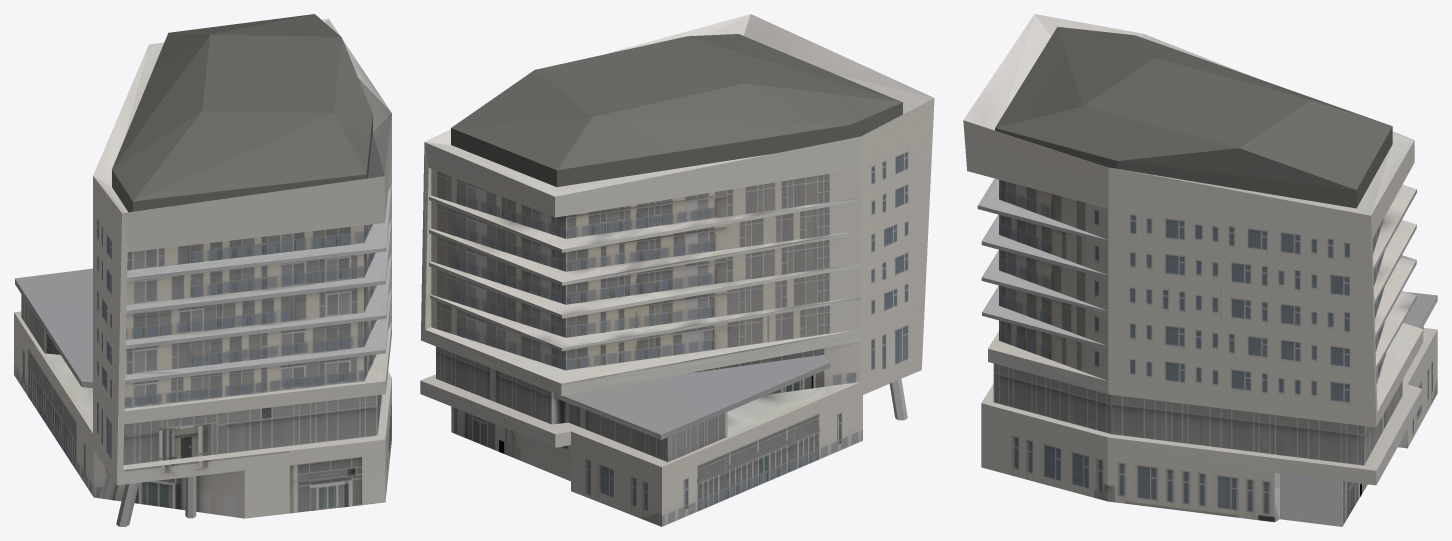
3 renders of one model, left to right at view 1: azimuth 30°, elevation 25°; view 2: azimuth 150°, elevation 25°; view 3: azimuth 270°, elevation 25°, orthographic. The views are drawn at different scales.
Visible parts, largest first — view 1: 209-A.001; view 2: 209-A.001; view 3: 209-A.001.
Part boxes in pixels (x1,y1,x2,y2): 209-A.001: [14, 14, 391, 526]; 209-A.001: [420, 14, 934, 526]; 209-A.001: [963, 14, 1437, 526].
Bounding box in the file's own units: 39.46 × 35.69 × 42.57.
Materials: 1 (1 with a texture image).
